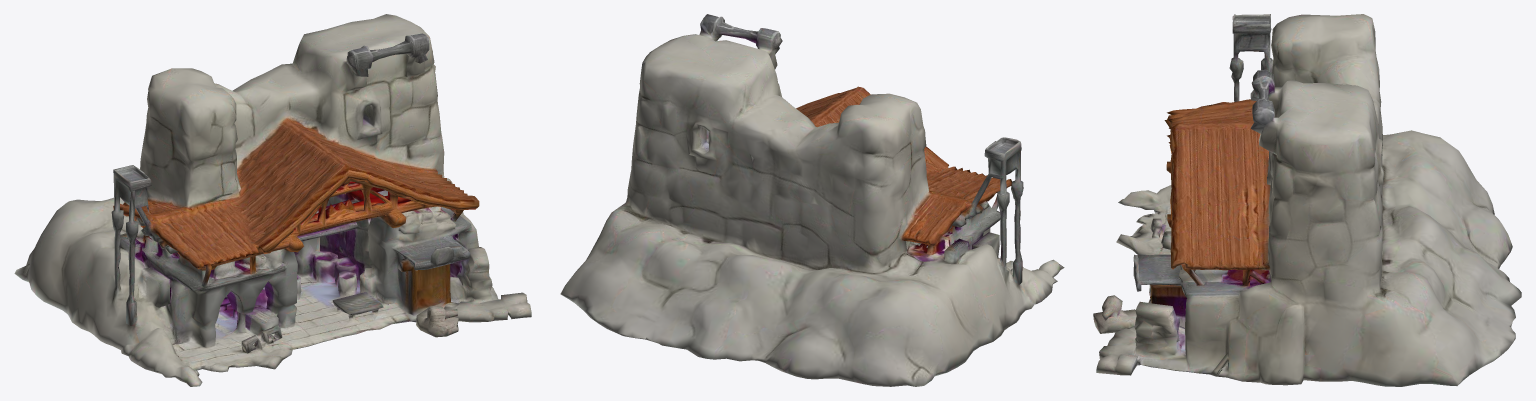
File: siege-workshop.glb
The picture shows the model from 3 angles, left to right: view 1: azimuth 30°, elevation 25°; view 2: azimuth 150°, elevation 25°; view 3: azimuth 270°, elevation 25°; orthographic projection. The views are drawn at different scales.
Size of the model in its own units: 1.91 by 1.12 by 1.73.
1 material, 1 textured.
